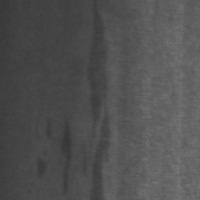inclusion: (83, 3, 115, 199), (55, 111, 79, 198), (32, 149, 53, 182)
